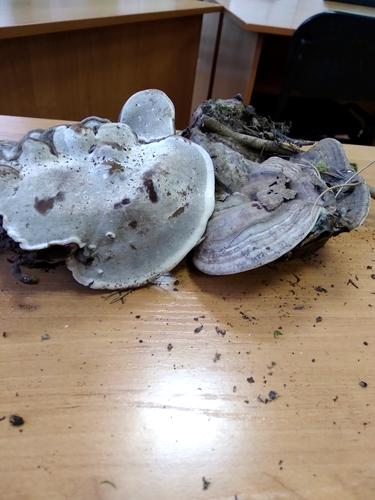Ganoderma - Fruit Body: (4, 89, 212, 300), (217, 97, 369, 278)
